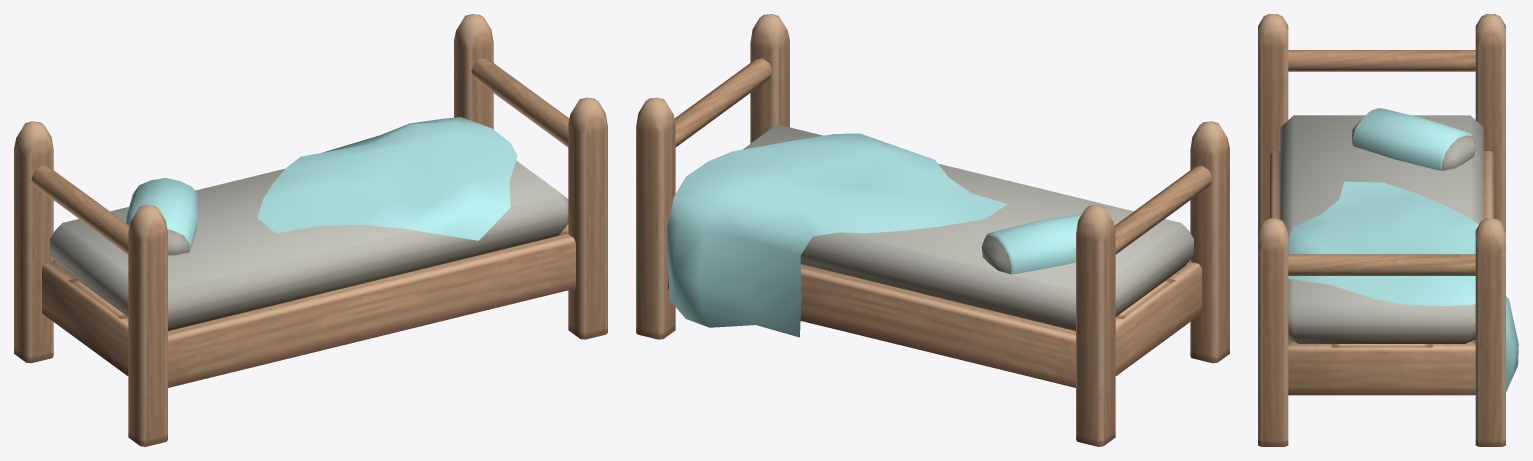
Rendered from rmk_lse_bedS.dae.
3 renders of one model, left to right at view 1: azimuth 30°, elevation 25°; view 2: azimuth 150°, elevation 25°; view 3: azimuth 270°, elevation 25°, orthographic. The views are drawn at different scales.
Visible parts, largest first — view 1: rmk_lse_bedS; view 2: rmk_lse_bedS; view 3: rmk_lse_bedS.
Part boxes in pixels (x1,y1,x2,y2): rmk_lse_bedS: (14, 14, 607, 446); rmk_lse_bedS: (636, 14, 1229, 446); rmk_lse_bedS: (1258, 14, 1518, 446).
Bounding box in the file's own units: 57.76 × 27.55 × 29.31.
Materials: 2 (2 with a texture image).
